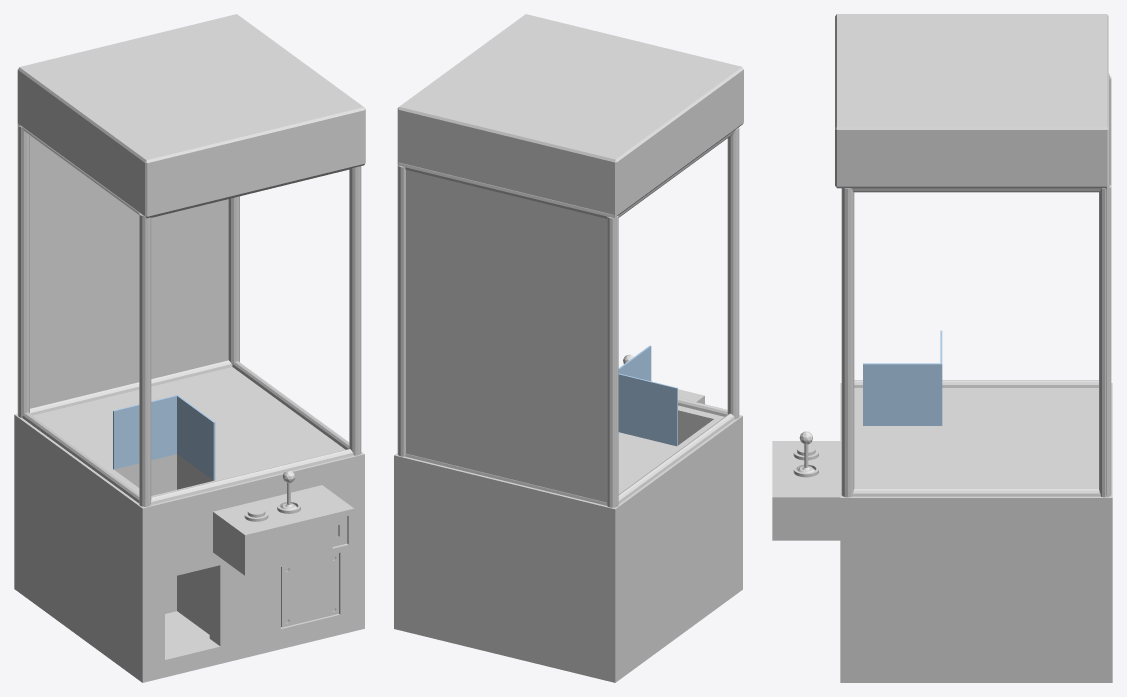
File: Claw_Machine.fbx
3 views of the same model, side by side, from view 1: azimuth 30°, elevation 25°; view 2: azimuth 150°, elevation 25°; view 3: azimuth 270°, elevation 25° (orthographic). The views are drawn at different scales.
Parts seen in each view (by area): view 1: Cube.003, Cube, Cube.004; view 2: Cube.003, Cube, Cube.004; view 3: Cube, Cube.003, Cube.004.
Part boxes in pixels (<box>): Cube.003: <box>17,14,365,414</box>; Cube: <box>14,367,364,682</box>; Cube.004: <box>18,125,361,506</box>; Cube.003: <box>397,14,743,505</box>; Cube: <box>394,345,742,682</box>; Cube.004: <box>397,127,739,507</box>; Cube: <box>772,330,1112,682</box>; Cube.003: <box>835,14,1108,494</box>; Cube.004: <box>841,73,1111,497</box>.
Bounding box in the file's own units: 400 × 900 × 500.
